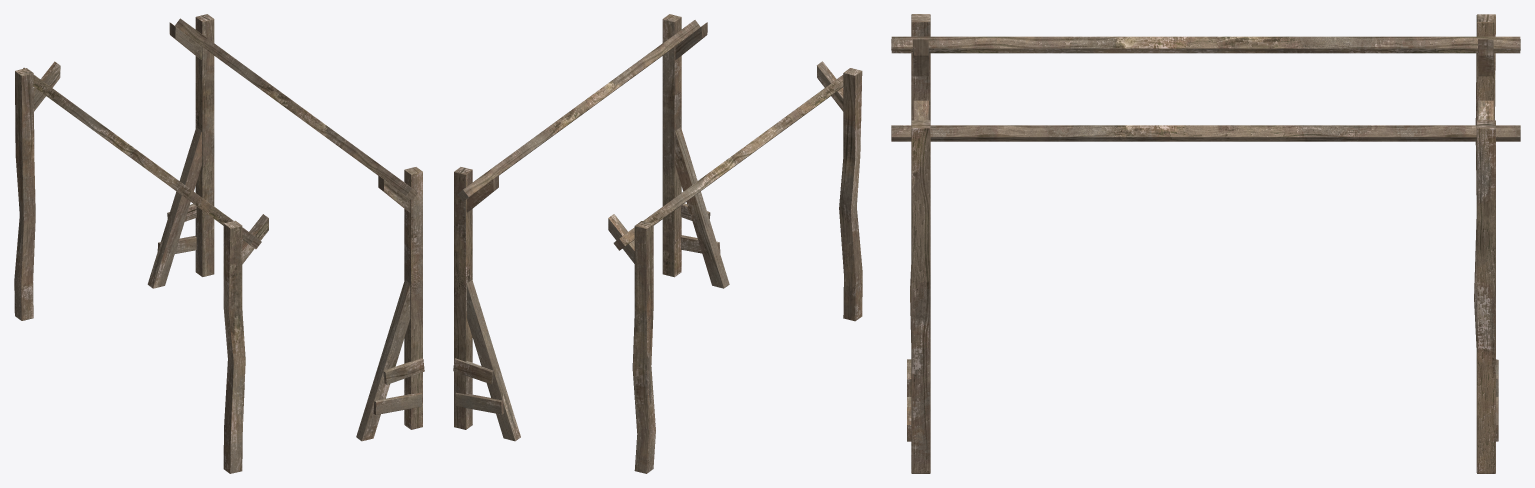
Rendered from SM_Market_Stand_01.fbx.
3 renders of one model, left to right at view 1: azimuth 30°, elevation 25°; view 2: azimuth 150°, elevation 25°; view 3: azimuth 270°, elevation 25°, orthographic. The views are drawn at different scales.
Visible parts, largest first — view 1: SM_Market_Stand_01_LOD0; view 2: SM_Market_Stand_01_LOD0; view 3: SM_Market_Stand_01_LOD0.
Boxes of the visible parts, x1,y1,x2,y2 form: SM_Market_Stand_01_LOD0: (14, 14, 424, 473); SM_Market_Stand_01_LOD0: (453, 14, 862, 473); SM_Market_Stand_01_LOD0: (891, 14, 1520, 473).
Bounding box in the file's own units: 215 × 445 × 272.
Materials: 1 (1 with a texture image).
